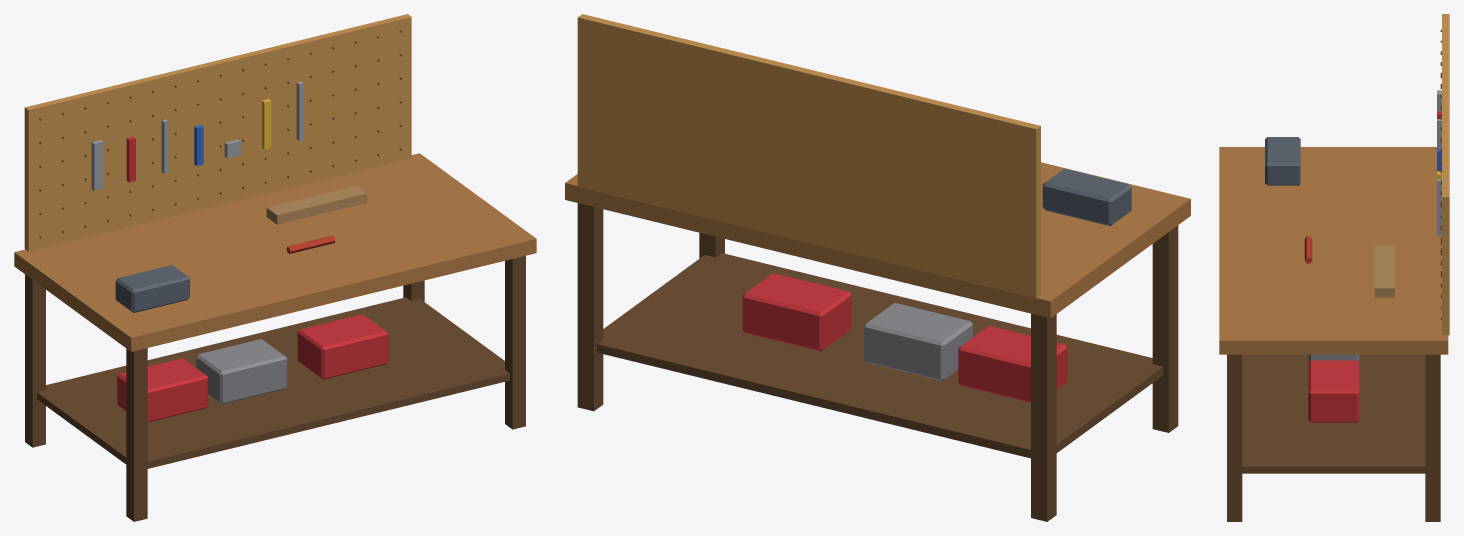
Rendered from workbench.fbx.
The picture shows the model from 3 angles, left to right: view 1: azimuth 30°, elevation 25°; view 2: azimuth 150°, elevation 25°; view 3: azimuth 270°, elevation 25°; orthographic projection. The views are drawn at different scales.
Visible parts, largest first — view 1: workbench; view 2: workbench; view 3: workbench.
Part boxes in pixels (box(x1,y1,x2,y2)): workbench: box(14, 14, 536, 521); workbench: box(565, 14, 1190, 521); workbench: box(1219, 14, 1449, 521).
Size of the model in its own units: 1.8 by 1.4 by 0.905.
